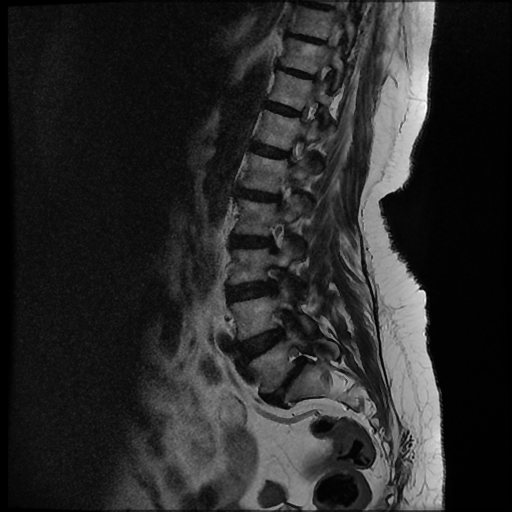LFS0: (258, 210, 293, 258)
LFS2: (281, 343, 323, 378)
